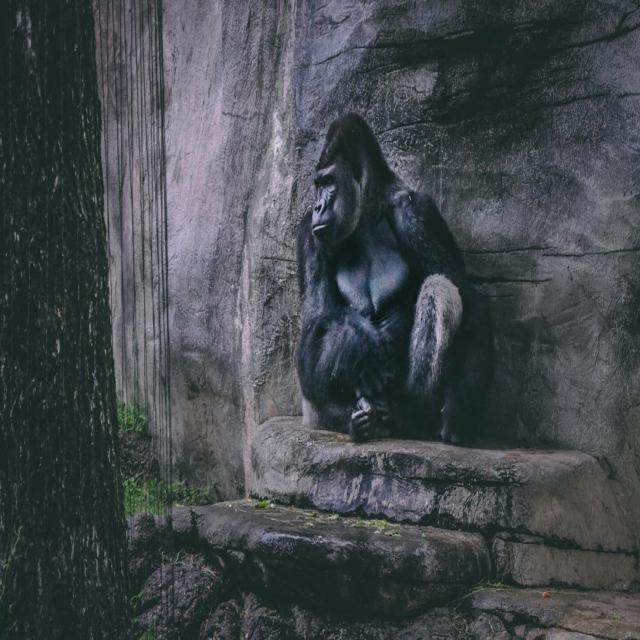Gorilla: (296, 113, 490, 446)
